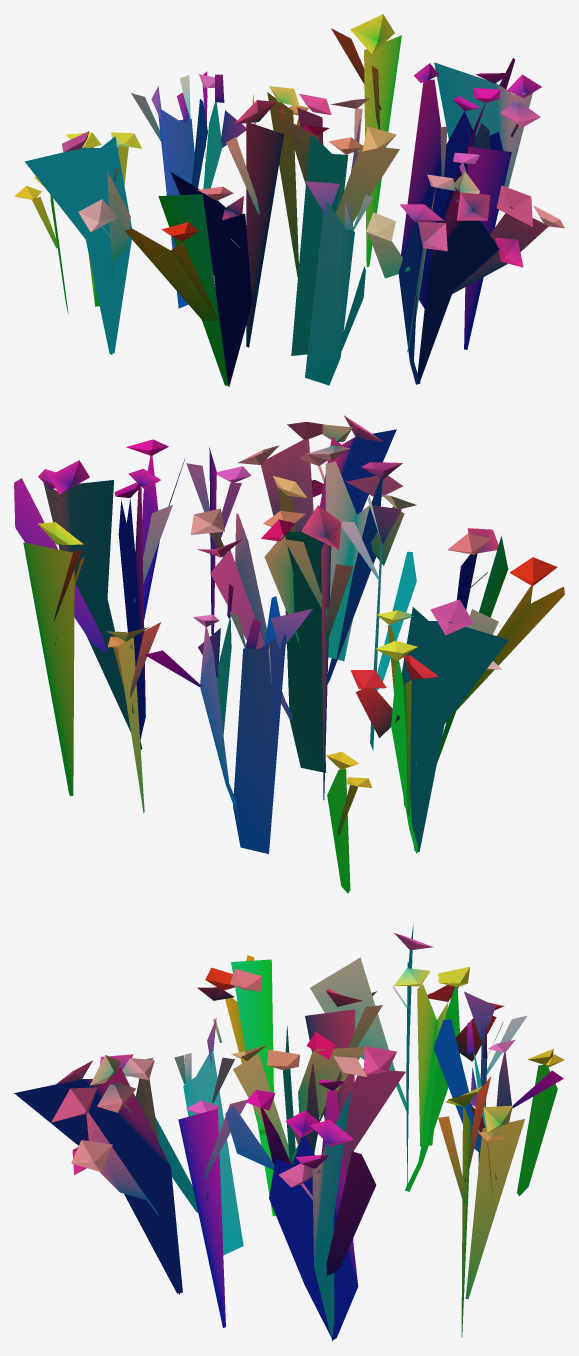
The model's file is Nordic_Coastal_Groundcover_vlqkdeaja_Mid_vlqkdeaja_VarB_LOD2.fbx.
3 renders of one model, top to bottom at view 1: azimuth 30°, elevation 25°; view 2: azimuth 150°, elevation 25°; view 3: azimuth 270°, elevation 25°, orthographic. The views are drawn at different scales.
Visible parts, largest first — view 1: _i9gl_VarB_LOD4; view 2: _i9gl_VarB_LOD4; view 3: _i9gl_VarB_LOD4.
Boxes of the visible parts, box(x1,y1,x2,y2) form: _i9gl_VarB_LOD4: box(14, 14, 564, 386); _i9gl_VarB_LOD4: box(14, 415, 564, 893); _i9gl_VarB_LOD4: box(14, 922, 564, 1341).
Size of the model in its own units: 99.38 by 51.74 by 95.82.
